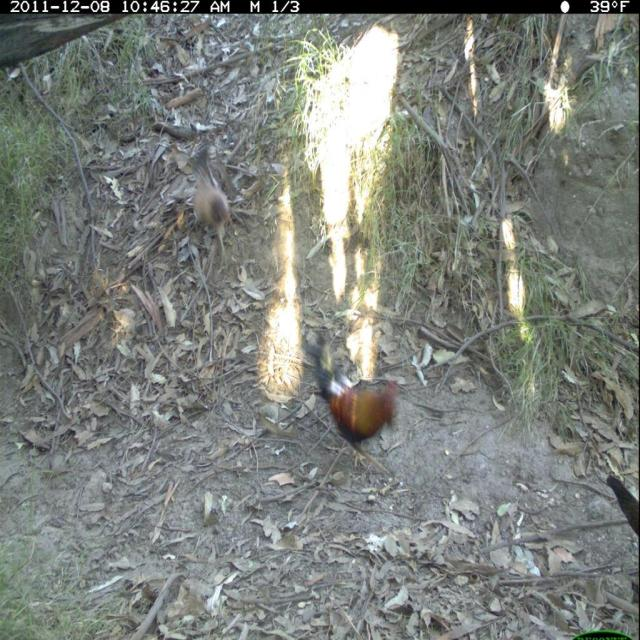bird: (304, 339, 398, 474), (187, 144, 240, 274), (603, 464, 640, 558)
